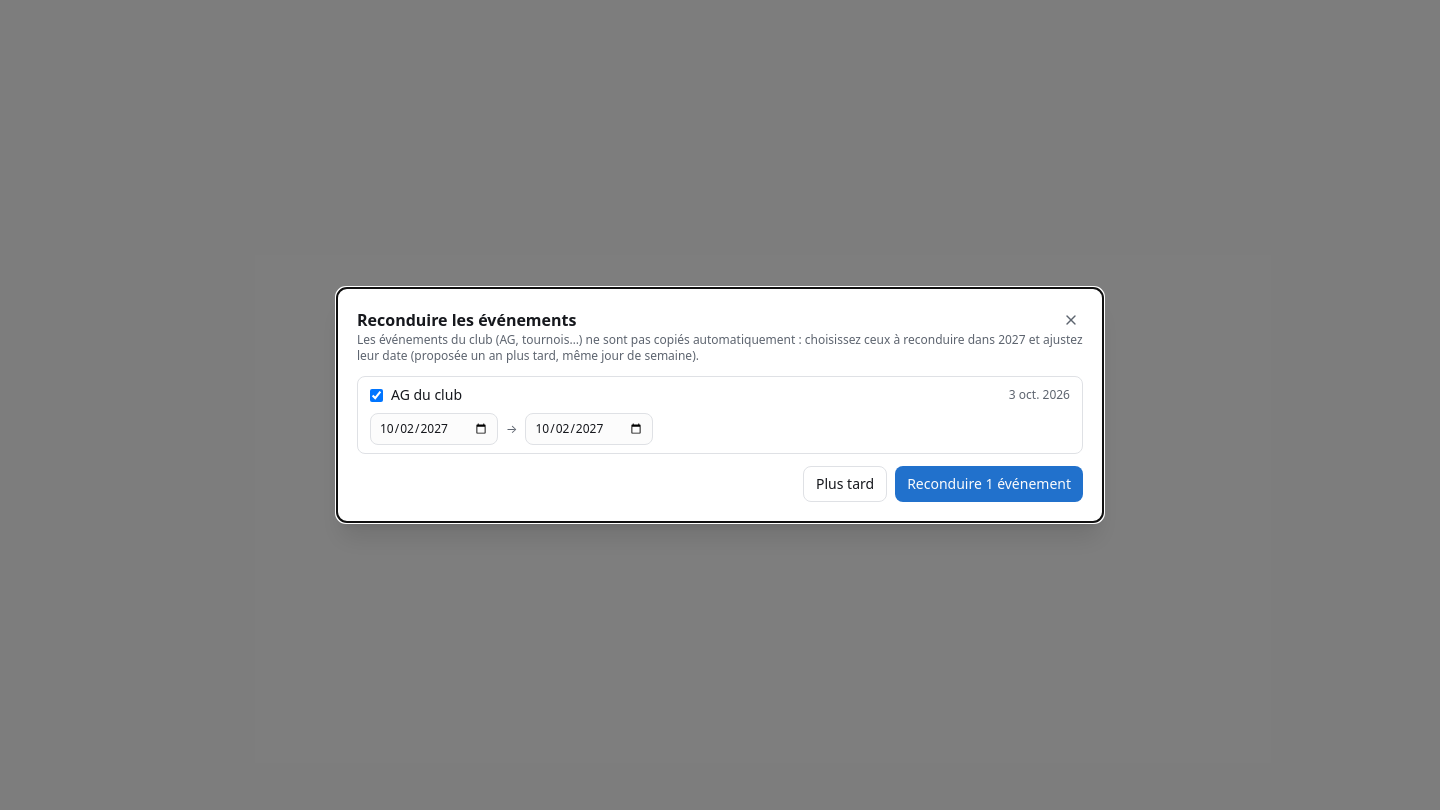
Test: RedateEventsDialog › keeps a failed row listed with the server message
The width and height of the screenshot is (1440, 810).
Expected: the text "AG du club" is shown, [391,385,462,404]
What coordinates should you click on to do the following:
click the button "Reconduire 1 événement"
I would click on:
 (989, 484)
Its box is [895,466,1083,502].
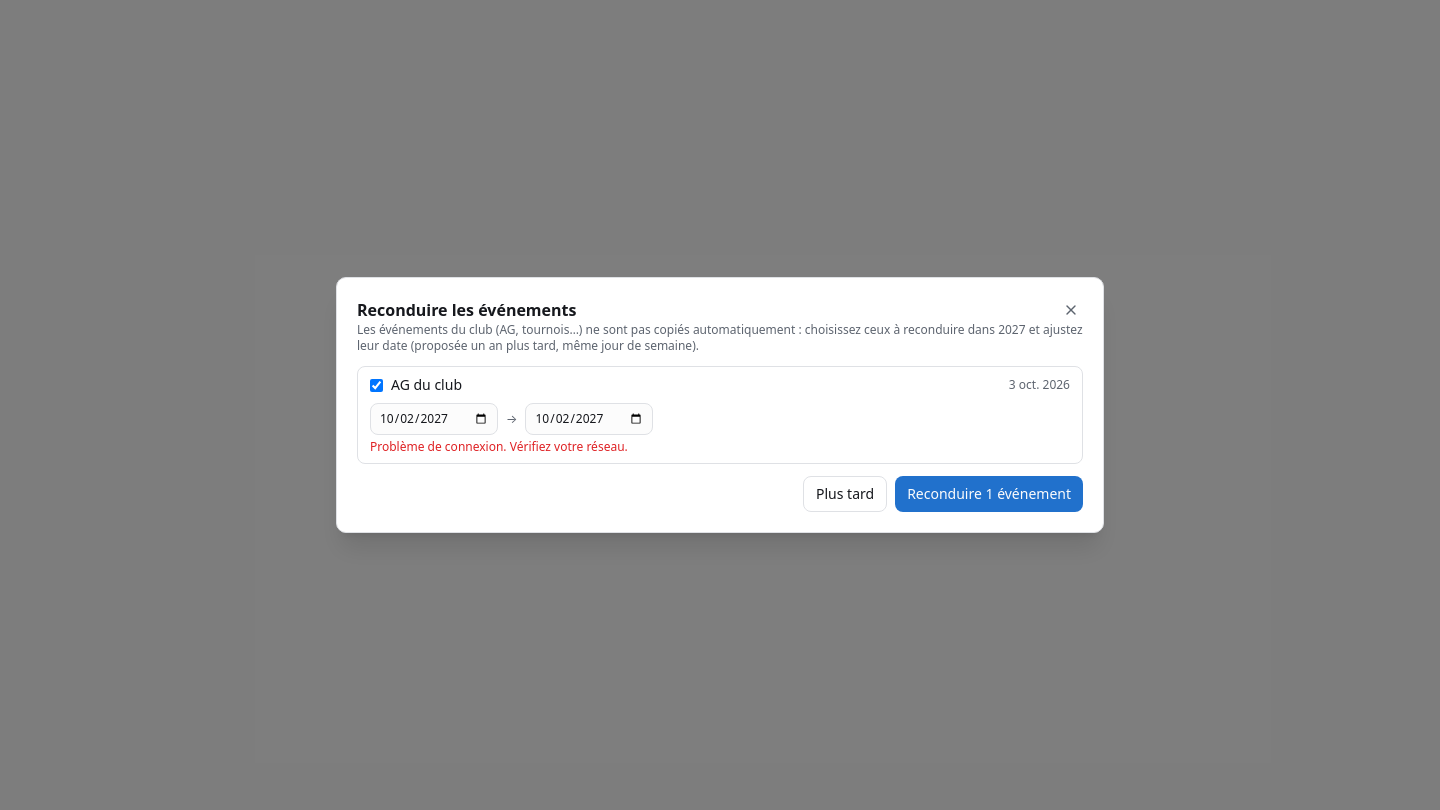
Expected: the text "Problème de connexion. Vérifiez votre réseau." is shown, [370,438,628,455]
